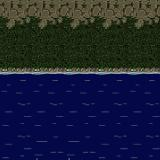Interaction: (0, 56, 160, 84)
Slow: (0, 76, 160, 160)
